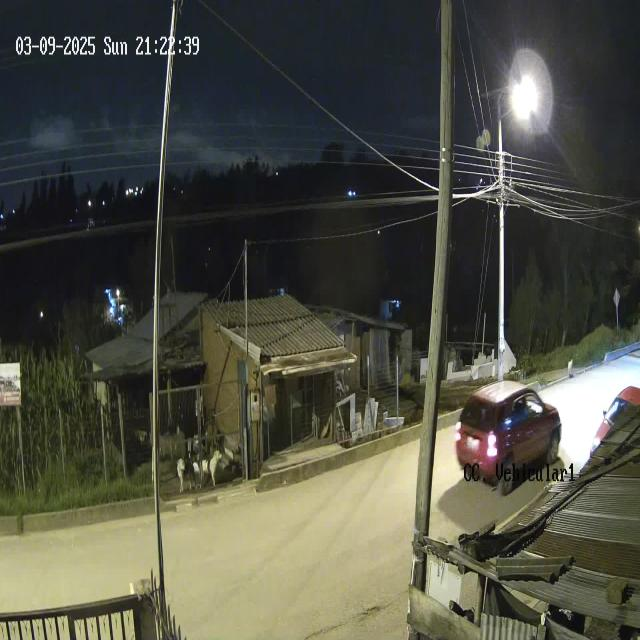SUV: (456, 381, 562, 490)
